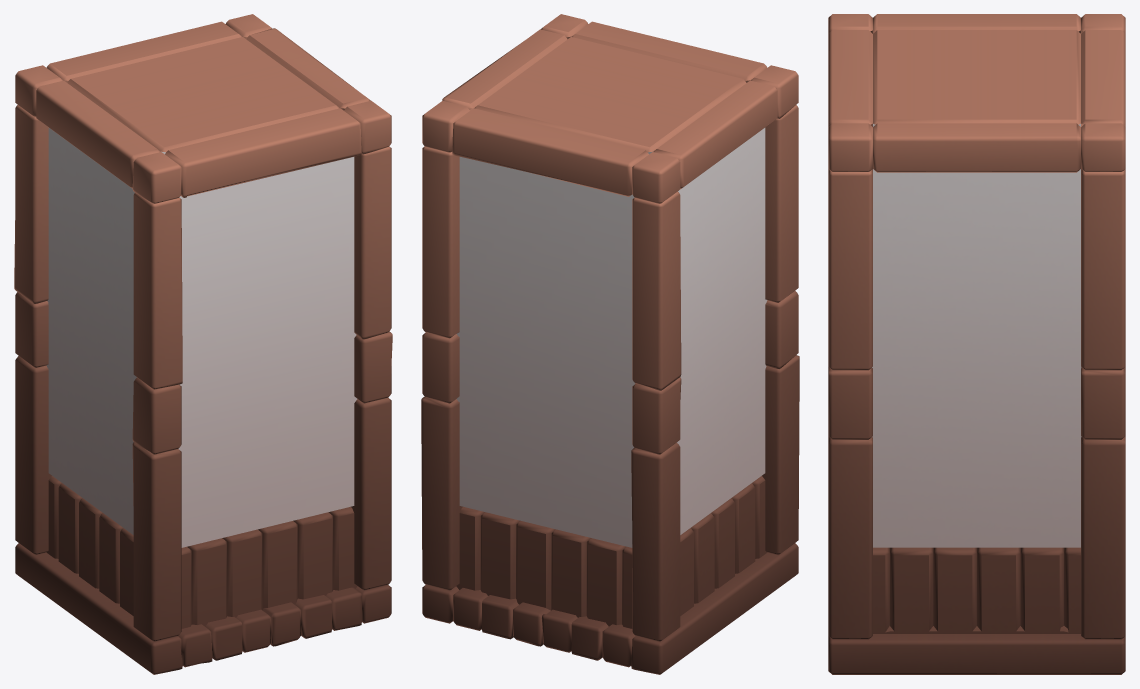
Rendered from SM_Wood_Body_07.fbx.
The picture shows the model from 3 angles, left to right: view 1: azimuth 30°, elevation 25°; view 2: azimuth 150°, elevation 25°; view 3: azimuth 270°, elevation 25°; orthographic projection. The views are drawn at different scales.
Visible parts, largest first — view 1: SM_Wood_Body_07; view 2: SM_Wood_Body_07; view 3: SM_Wood_Body_07.
Part boxes in pixels (left/top/right/bottom): SM_Wood_Body_07: left=14, top=14, right=392, bottom=674; SM_Wood_Body_07: left=421, top=14, right=799, bottom=674; SM_Wood_Body_07: left=828, top=14, right=1125, bottom=674.
Size of the model in its own units: 1 by 2 by 1.
